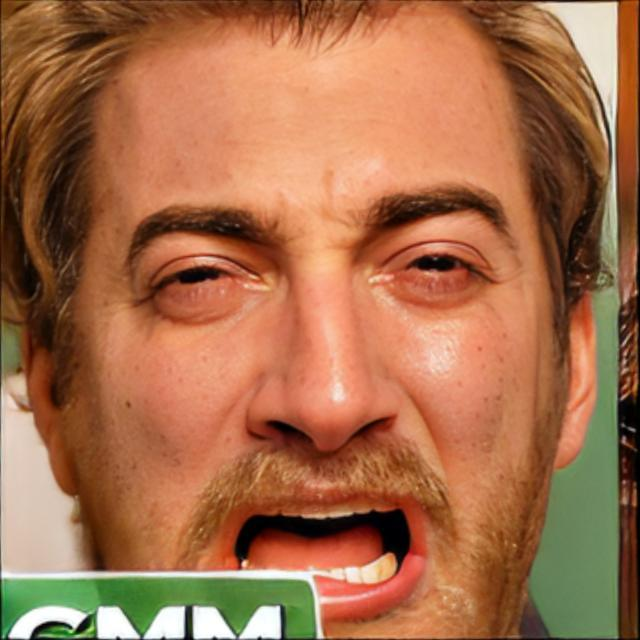sad: (65, 14, 560, 640)
